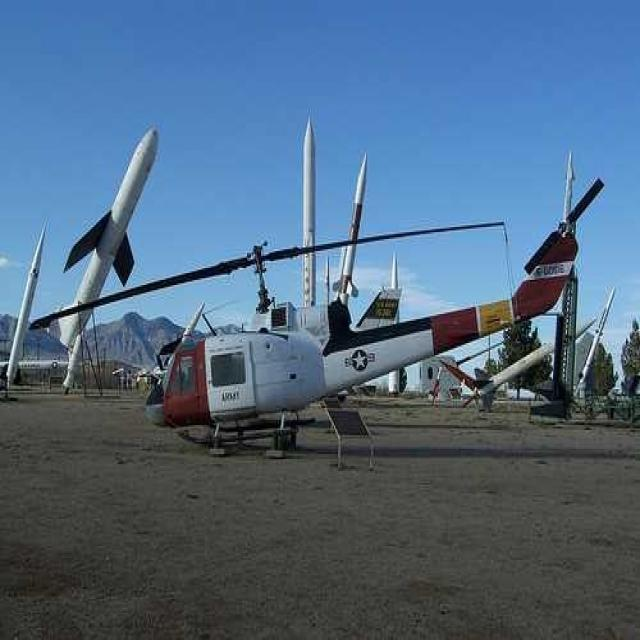missile: (43, 129, 156, 365), (6, 224, 46, 390), (336, 147, 368, 313), (298, 118, 322, 302)
